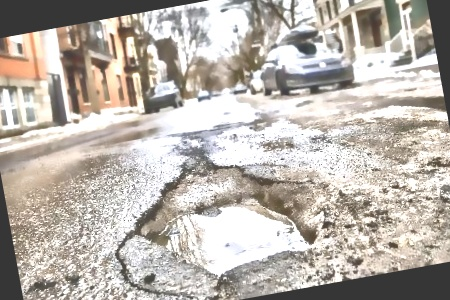pothole: (123, 144, 328, 289), (393, 89, 447, 122)
